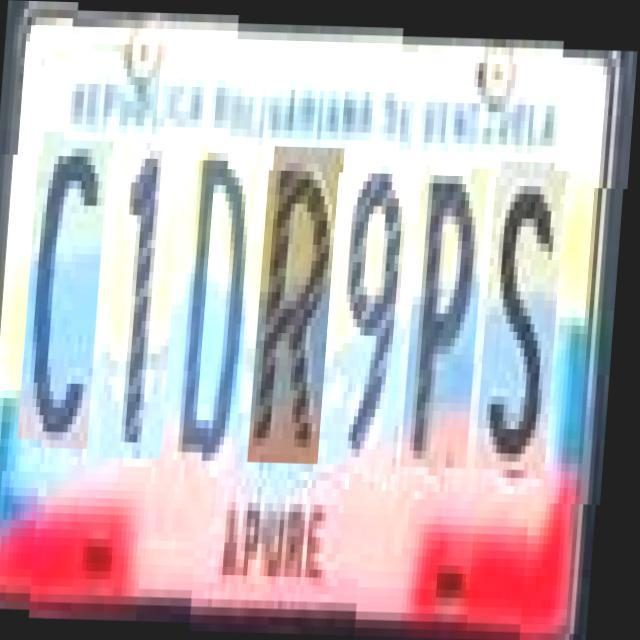1: (106, 141, 186, 458)
9: (333, 146, 418, 456)
C: (23, 138, 112, 448)
D: (180, 143, 260, 460)
P: (408, 148, 492, 449)
R: (255, 136, 344, 454)
S: (482, 141, 570, 451)
